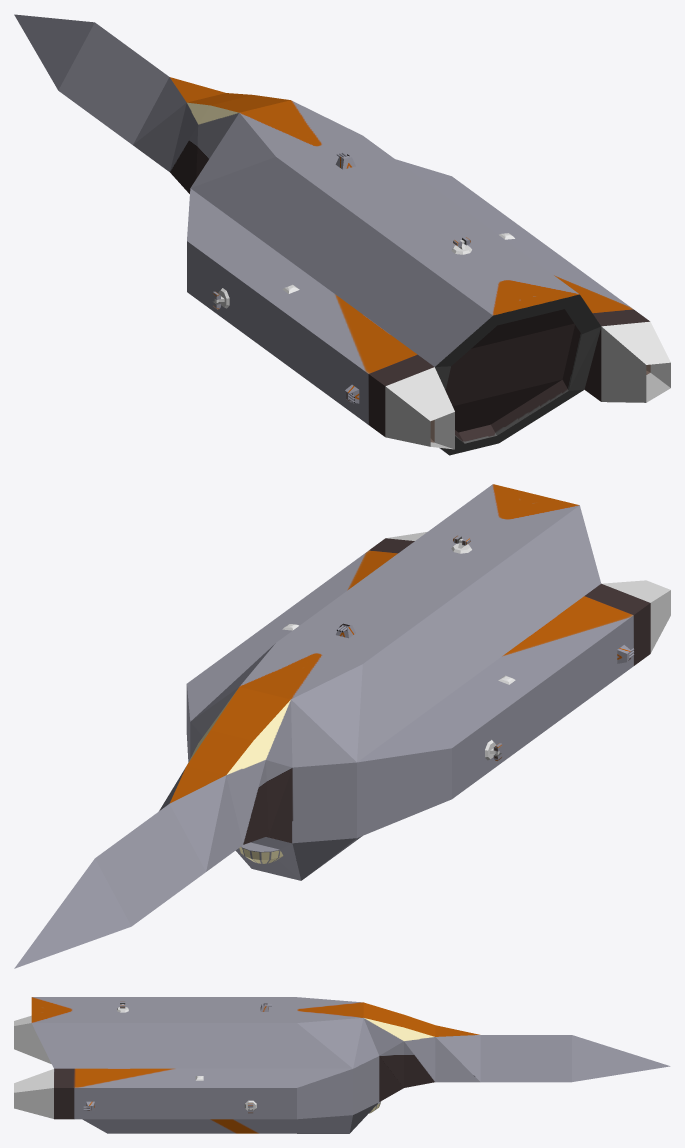
3 views of the same model, one above another, from view 1: azimuth 30°, elevation 25°; view 2: azimuth 150°, elevation 25°; view 3: azimuth 270°, elevation 25° (orthographic). The views are drawn at different scales.
Visible parts, largest first — view 1: Fuselage, Debris Mesh.000, Exhaust, Debris Mesh.002; view 2: Fuselage, Debris Mesh.003, Exhaust; view 3: Fuselage, Debris Mesh.000, Debris Mesh.003, Debris Mesh.004, Exhaust.
Part boxes in pixels (<box>): Fuselage: <box>14,14,649,443</box>; Debris Mesh.000: <box>439,294,650,455</box>; Exhaust: <box>385,321,670,449</box>; Debris Mesh.002: <box>430,316,497,442</box>; Fuselage: <box>14,484,650,968</box>; Debris Mesh.003: <box>186,684,301,880</box>; Exhaust: <box>386,532,670,652</box>; Fuselage: <box>31,997,669,1103</box>; Debris Mesh.000: <box>34,1029,296,1133</box>; Debris Mesh.003: <box>297,1056,403,1133</box>; Debris Mesh.004: <box>363,1018,480,1087</box>; Exhaust: <box>14,1015,53,1118</box>.
Size of what is drawn, in the model's own units: 11.68 by 38.04 by 8.19.
Materials: 5 (5 with a texture image).
